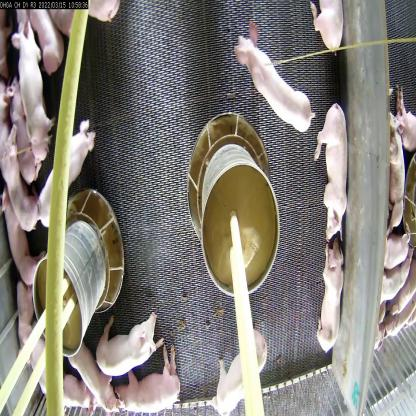Pig: (225, 22, 320, 153), (30, 122, 98, 212), (95, 300, 171, 374), (207, 328, 269, 415), (0, 101, 37, 235), (314, 105, 350, 235), (320, 228, 348, 368), (16, 24, 47, 146), (113, 363, 175, 415), (75, 334, 105, 404)
